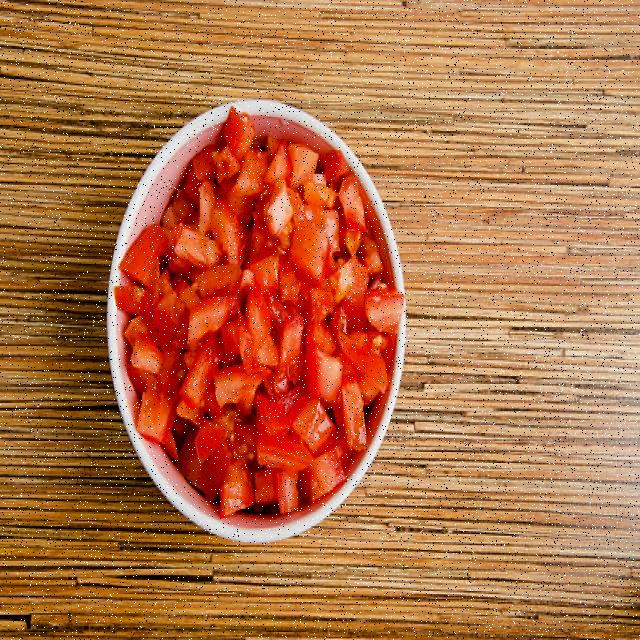Tomato: (118, 158, 366, 458)
